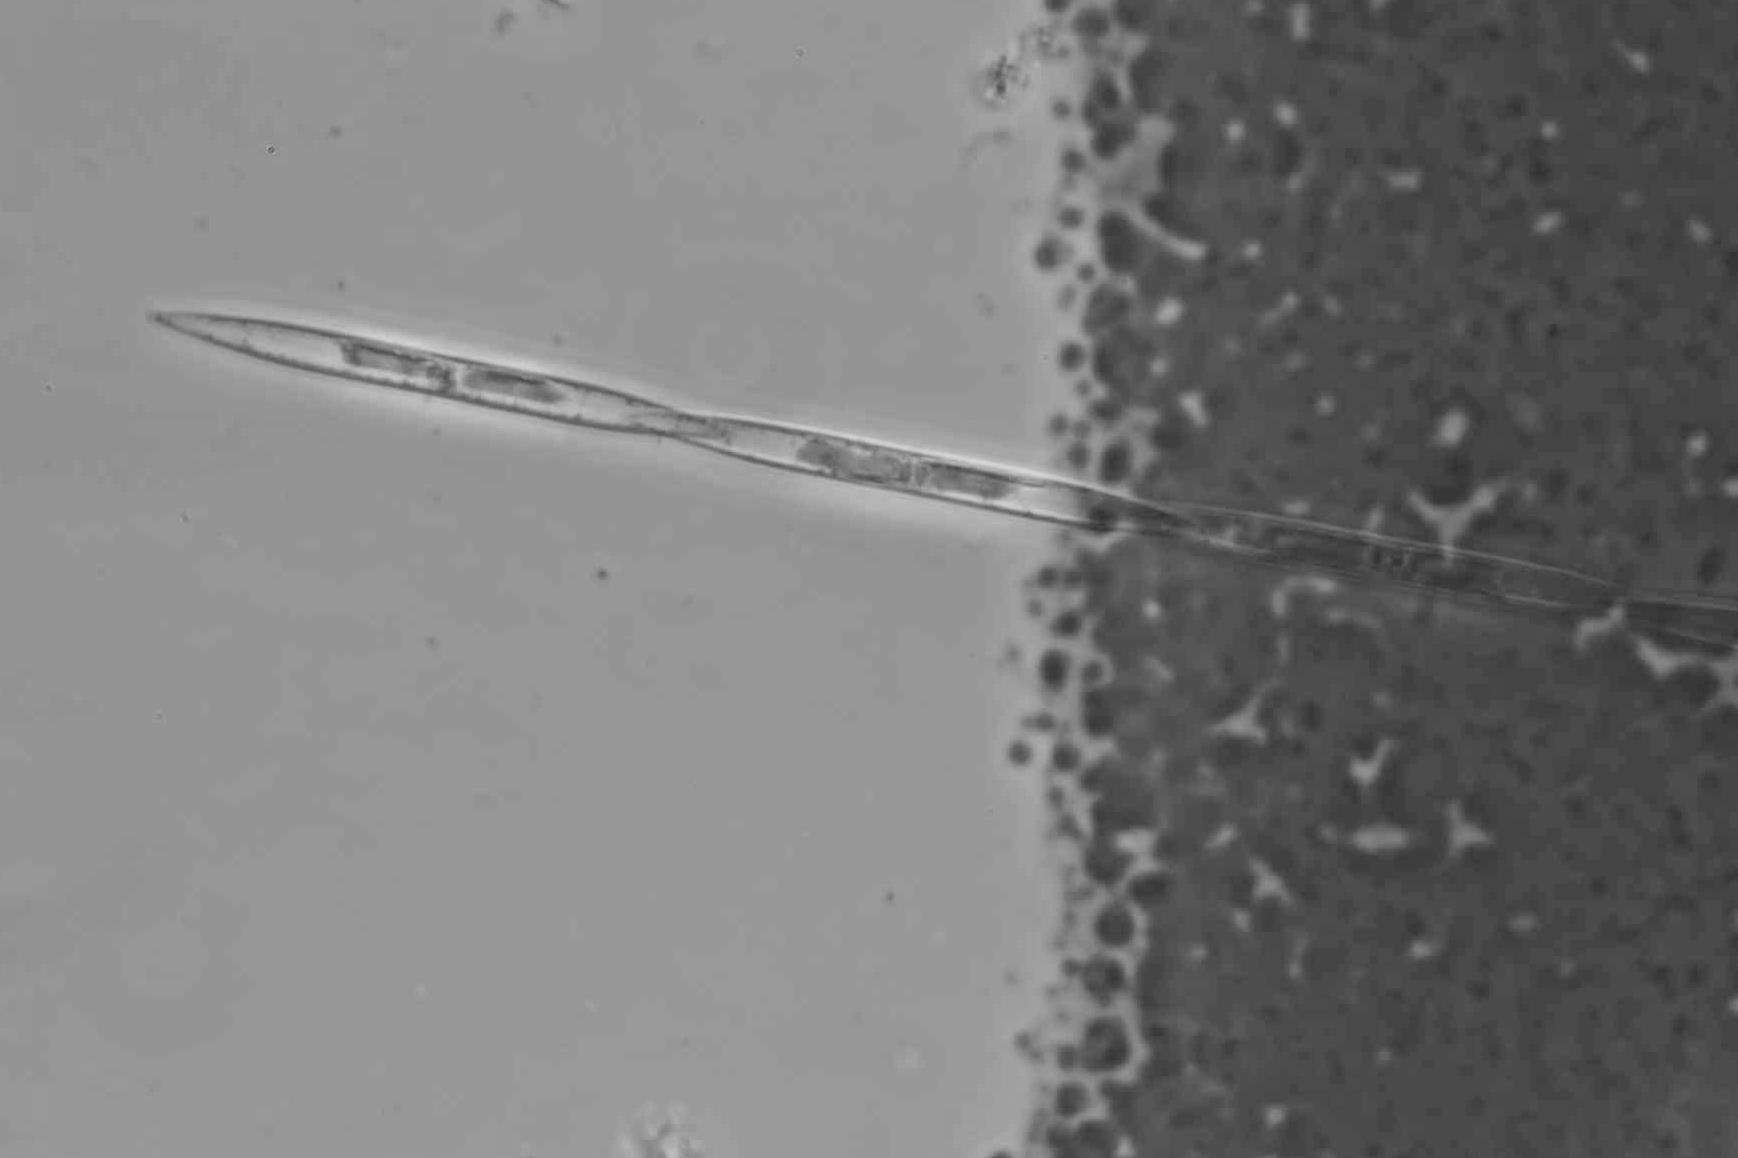pseudo_nitzschia: (140, 314, 1738, 654)
